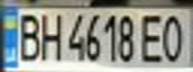1: (100, 10, 121, 62)
4: (63, 9, 87, 62)
6: (81, 10, 103, 63)
8: (115, 11, 139, 64)
B: (12, 9, 45, 62)
E: (136, 11, 166, 65)
H: (36, 9, 66, 62)
O: (157, 11, 190, 64)
